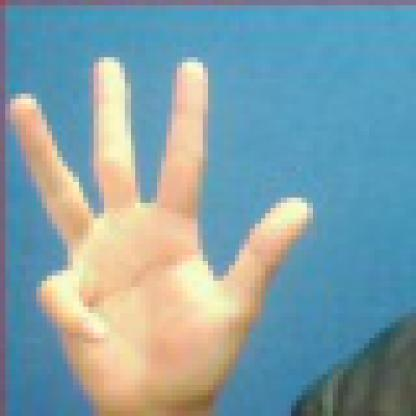nine: (1, 34, 314, 416)
